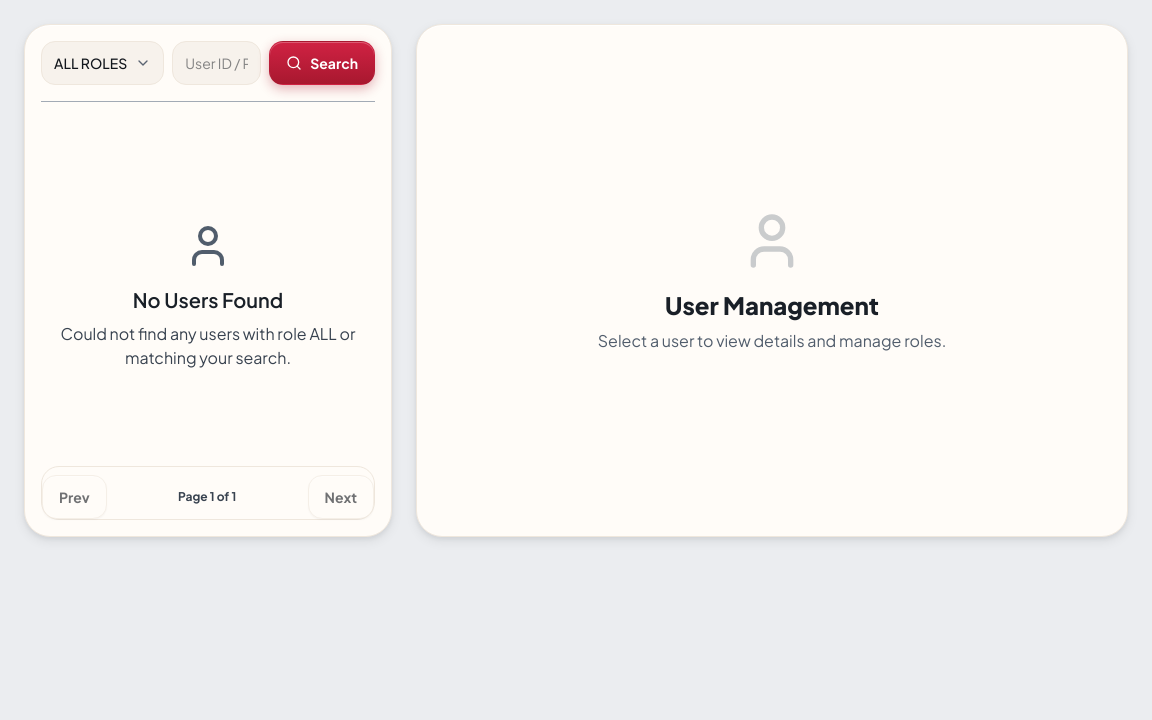
Test: AdminUserManagement search › limits role changes to supported roles and does not submit after the confirmation is cancelled
The width and height of the screenshot is (1152, 720).
Type "8000000001" into the field with placeholder "User ID / Phone" at {"x": 217, "y": 63}, box [172,41,261,85]
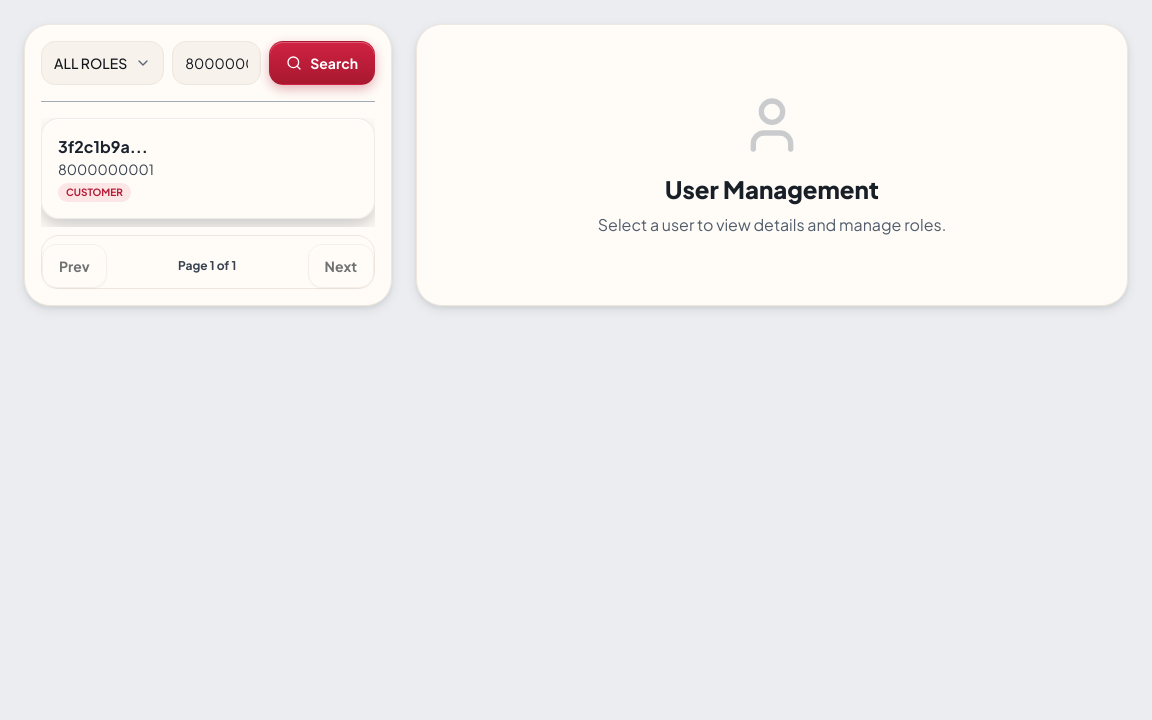
Click the button "3f2c1b9a... 8000000001 CUSTOMER" at {"x": 94, "y": 146}, box [41,118,375,219]
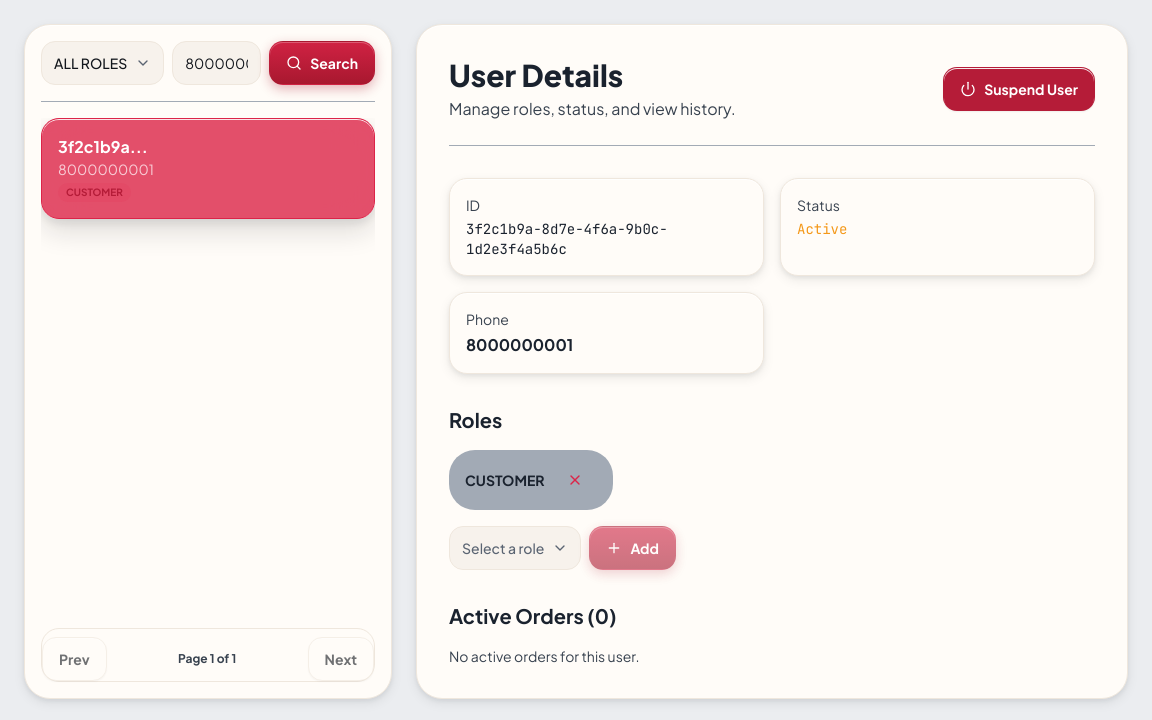
Result: the heading "User Details" is shown at [449,56,623,94]
Result: the button "Add" is disabled at [589,526,676,570]
Click the dropdown named "New role" at {"x": 515, "y": 548}, box [449,526,581,570]
(page scrolled)
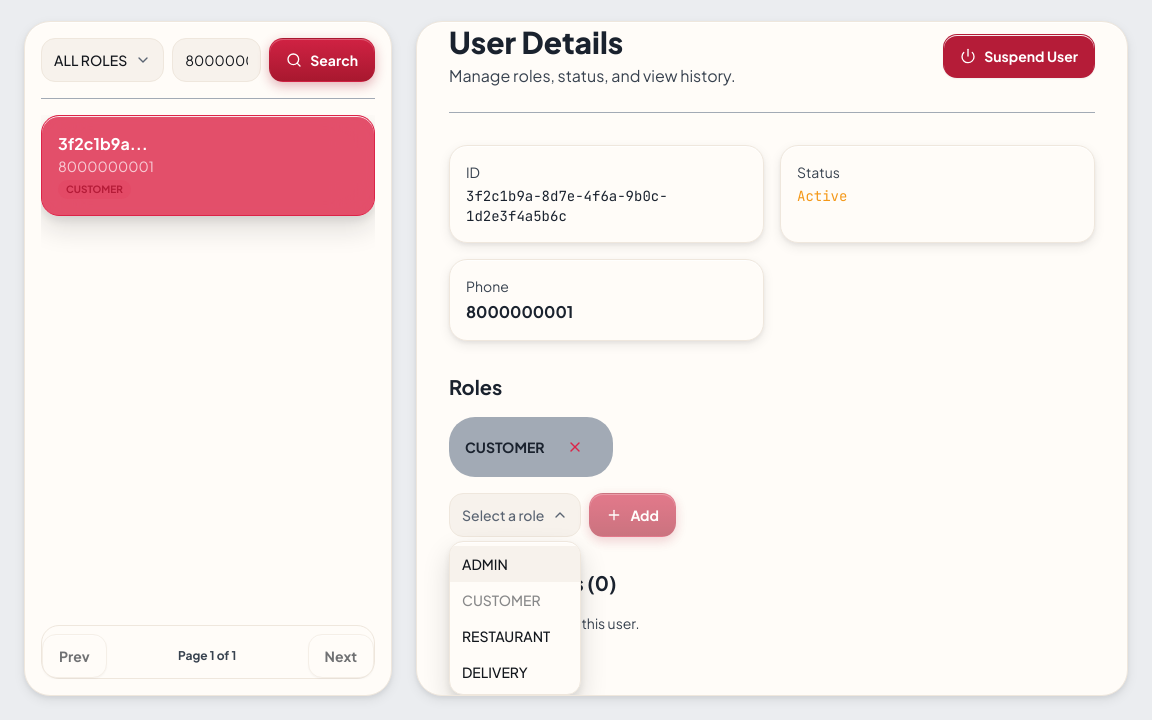
Click the option "DELIVERY" at {"x": 495, "y": 672}, box [462,663,528,681]
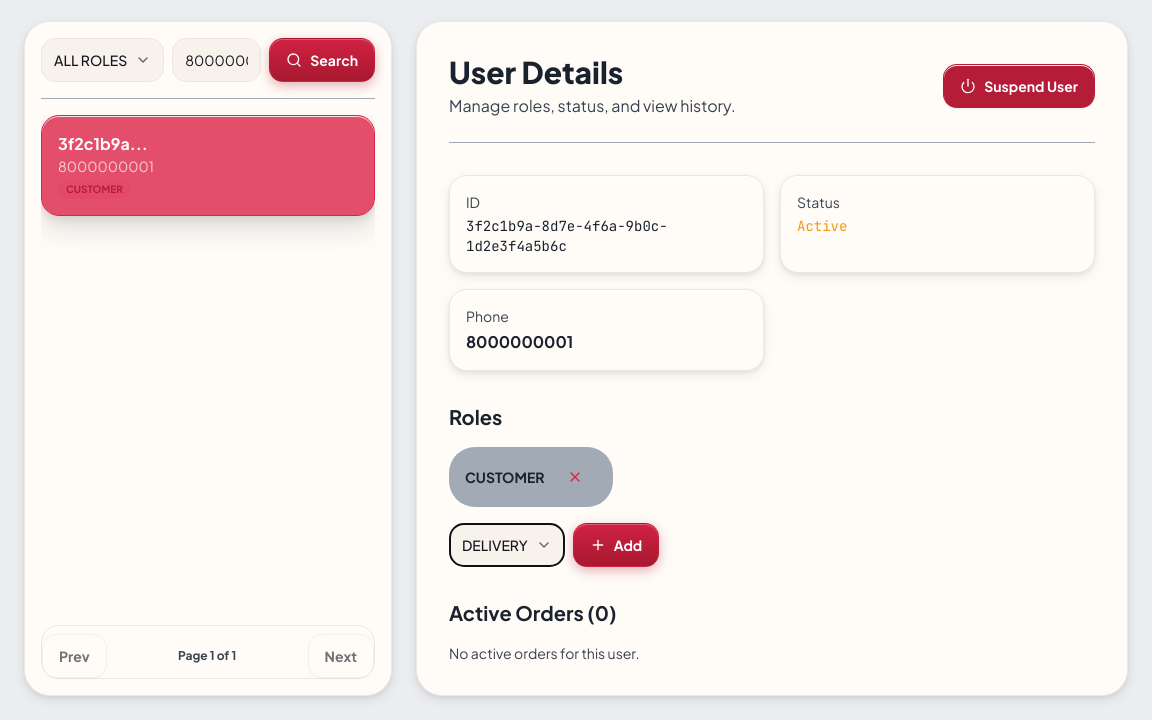
Click the button "Add" at {"x": 616, "y": 545}, box [573,523,659,567]
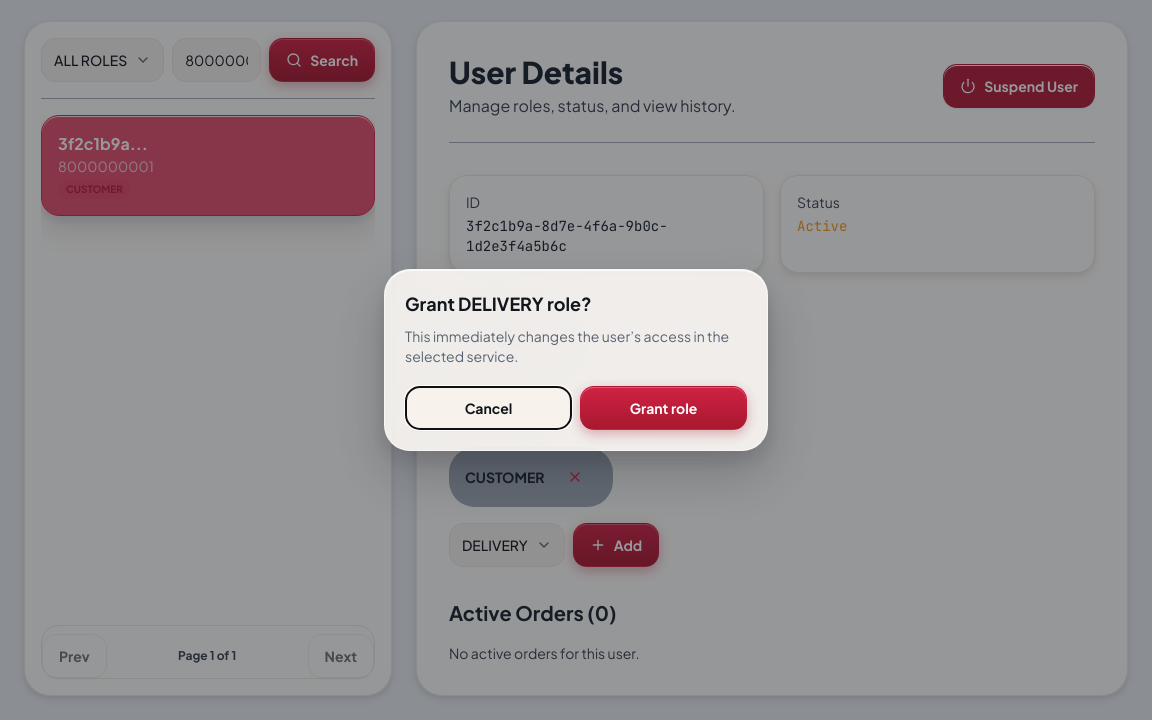
Click the button "Cancel" at {"x": 488, "y": 408}, box [405,386,572,430]
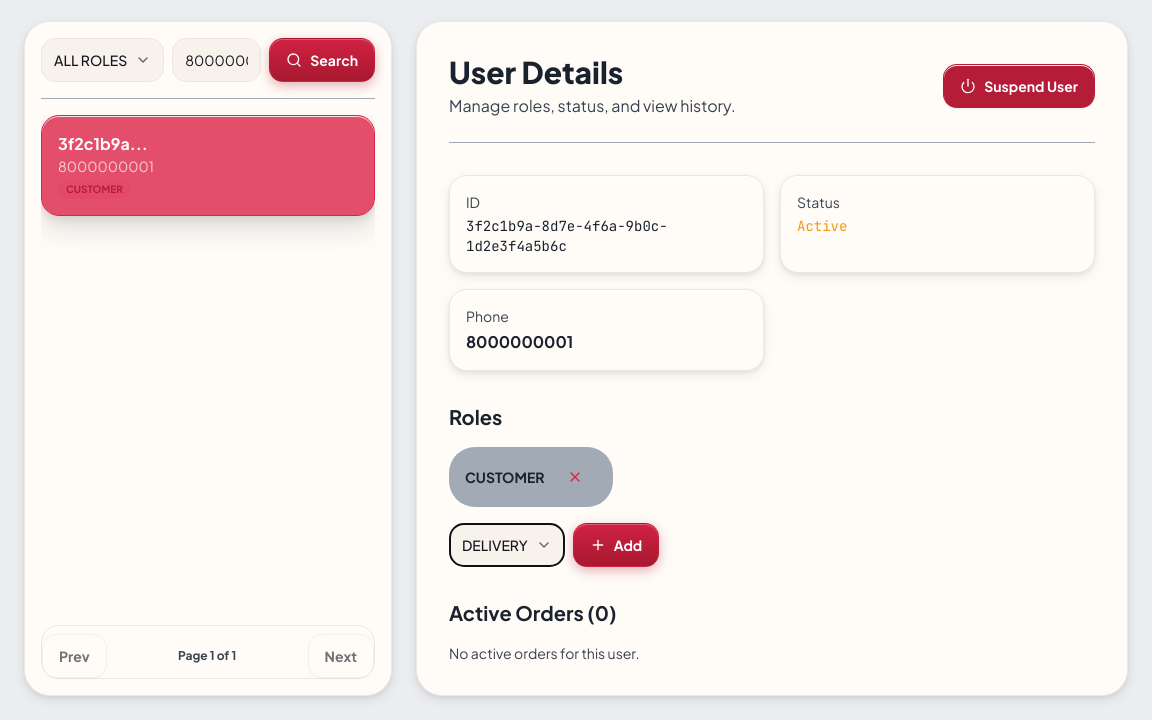
Result: the dialog is gone
